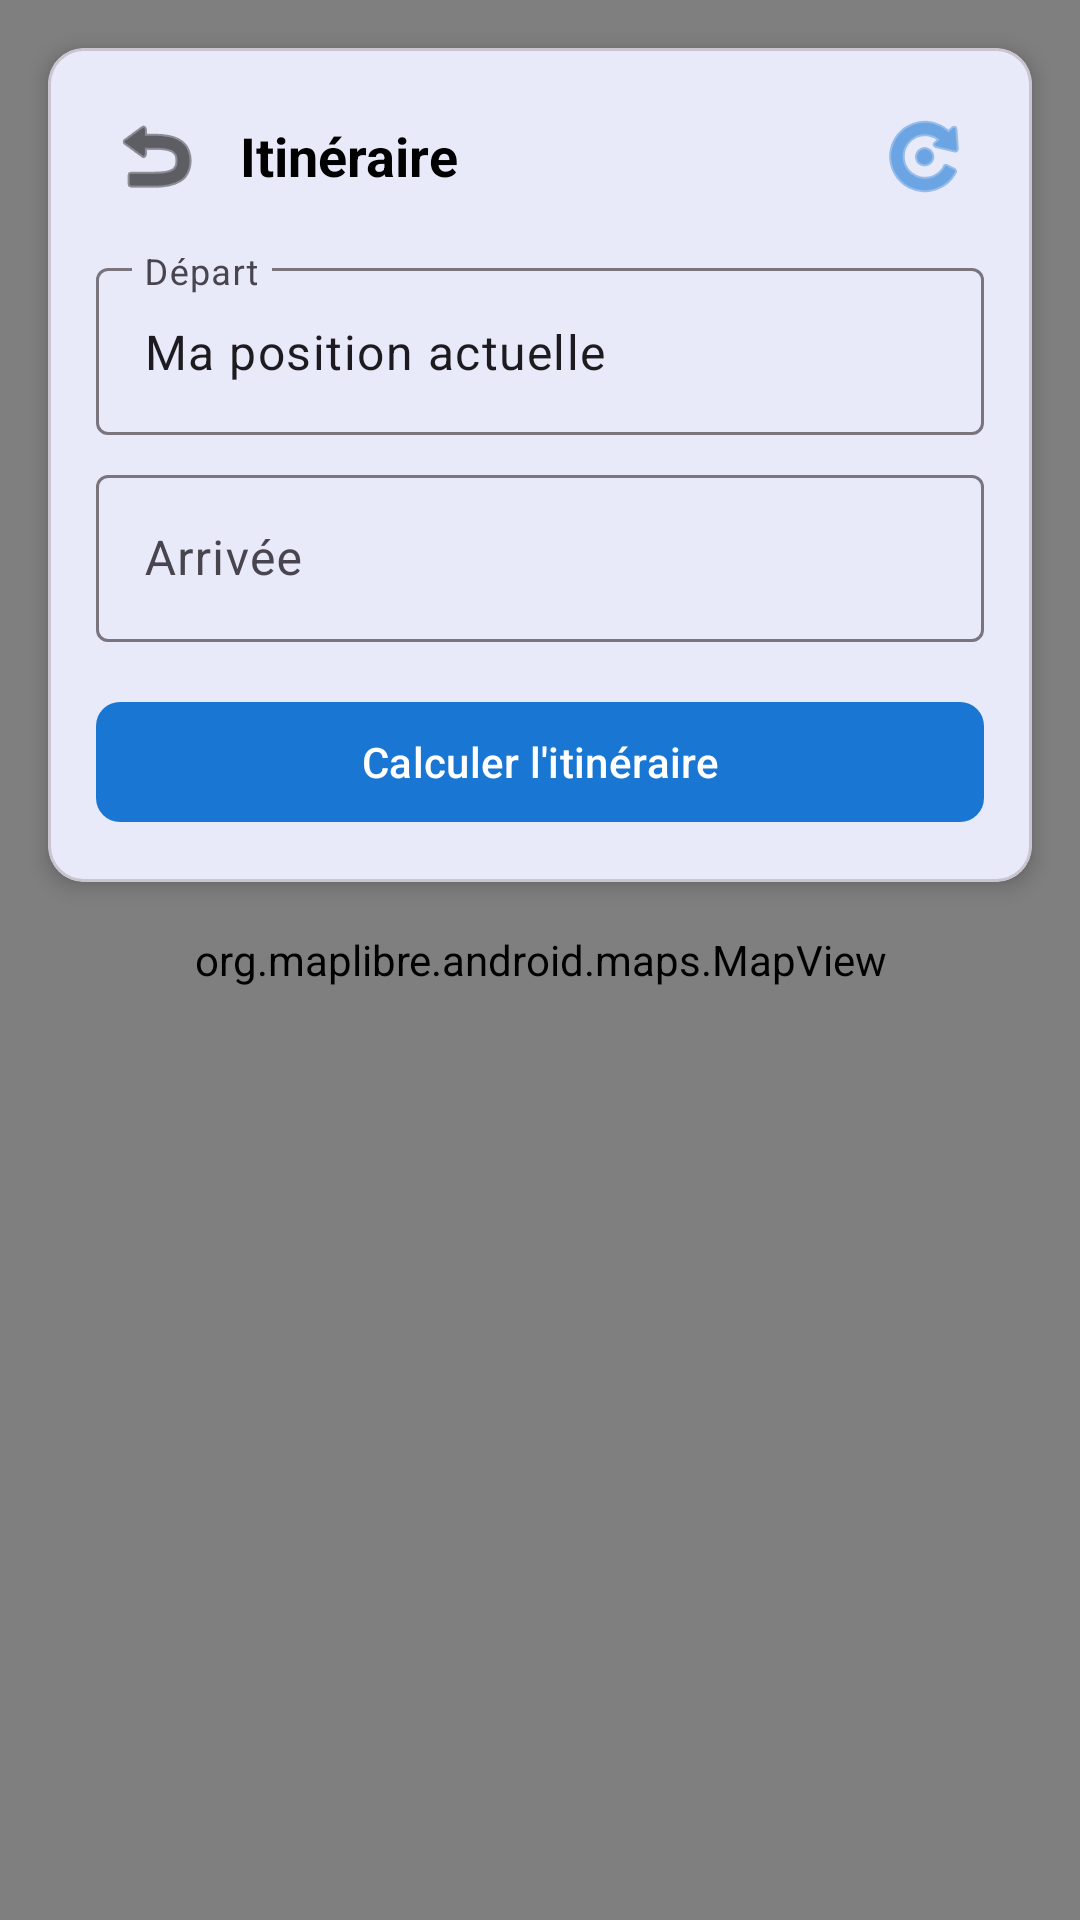

Point at icon controls on the screen. Image size 1080px×1920px, points as point (x, y).
revert: point (157, 156)
rotate: point (924, 156)
